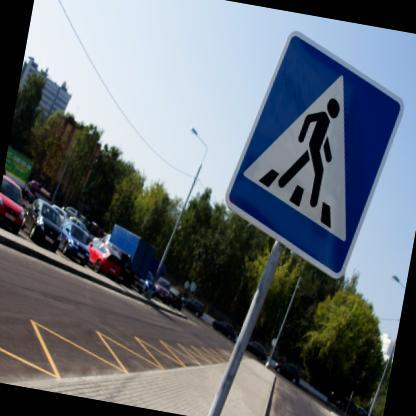road_sign: (228, 32, 402, 278)
